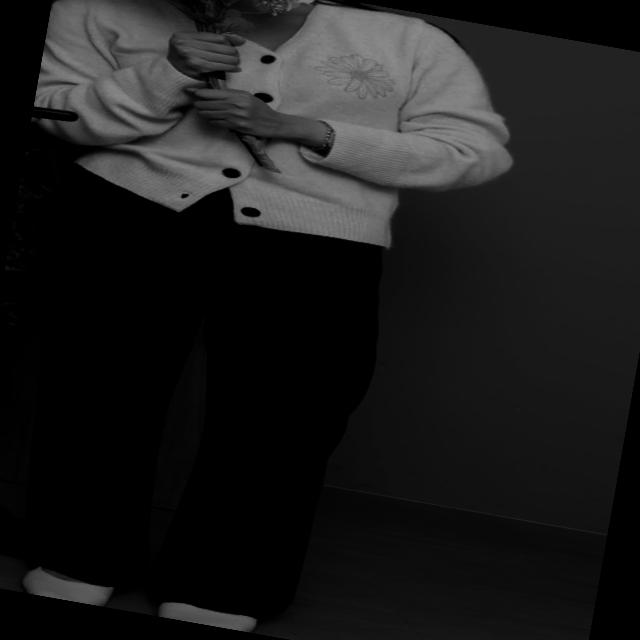denimpants: (19, 0, 539, 271)
